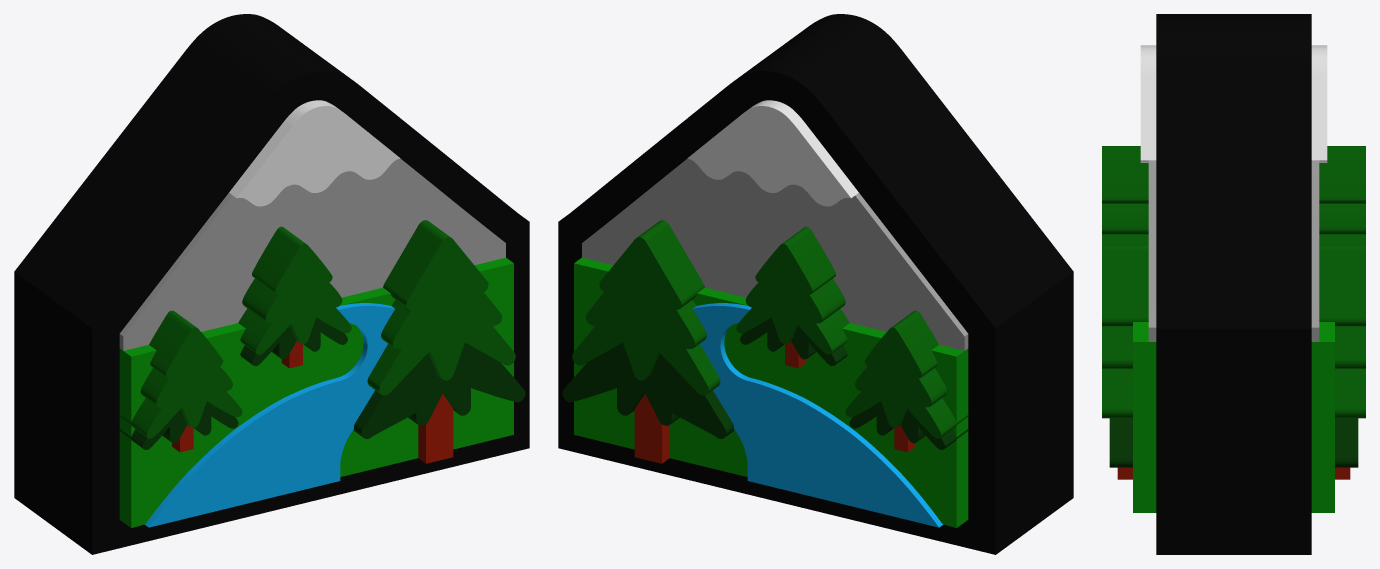
The picture shows the model from 3 angles, left to right: view 1: azimuth 30°, elevation 25°; view 2: azimuth 150°, elevation 25°; view 3: azimuth 270°, elevation 25°; orthographic projection.
Visible parts, largest first — view 1: U+1F3DE_layer00_obj00, U+1F3DE_layer07_obj00, U+1F3DE_layer01_obj00, U+1F3DE_layer03_obj00, U+1F3DE_layer04_obj00, U+1F3DE_layer06_obj00, U+1F3DE_layer02_obj00, U+1F3DE_layer05_obj00; view 2: U+1F3DE_layer00_obj00, U+1F3DE_layer07_obj00, U+1F3DE_layer01_obj00, U+1F3DE_layer03_obj00, U+1F3DE_layer04_obj00, U+1F3DE_layer06_obj00, U+1F3DE_layer02_obj00, U+1F3DE_layer05_obj00; view 3: U+1F3DE_layer00_obj00, U+1F3DE_layer07_obj00, U+1F3DE_layer03_obj00, U+1F3DE_layer02_obj00, U+1F3DE_layer01_obj00, U+1F3DE_layer06_obj00, U+1F3DE_layer05_obj00.
Part boxes in pixels (x1,y1,x2,y2): U+1F3DE_layer00_obj00: [14, 14, 529, 554]; U+1F3DE_layer07_obj00: [119, 220, 515, 438]; U+1F3DE_layer01_obj00: [119, 158, 505, 350]; U+1F3DE_layer03_obj00: [119, 257, 513, 527]; U+1F3DE_layer04_obj00: [144, 303, 394, 527]; U+1F3DE_layer06_obj00: [119, 317, 525, 449]; U+1F3DE_layer02_obj00: [229, 100, 400, 206]; U+1F3DE_layer05_obj00: [172, 341, 453, 463]; U+1F3DE_layer00_obj00: [558, 14, 1073, 554]; U+1F3DE_layer07_obj00: [572, 220, 968, 438]; U+1F3DE_layer01_obj00: [582, 158, 968, 350]; U+1F3DE_layer03_obj00: [574, 257, 968, 527]; U+1F3DE_layer04_obj00: [693, 303, 943, 527]; U+1F3DE_layer06_obj00: [562, 317, 968, 449]; U+1F3DE_layer02_obj00: [687, 100, 858, 206]; U+1F3DE_layer05_obj00: [634, 341, 915, 463]; U+1F3DE_layer00_obj00: [1156, 14, 1311, 554]; U+1F3DE_layer07_obj00: [1102, 146, 1365, 418]; U+1F3DE_layer03_obj00: [1133, 322, 1334, 512]; U+1F3DE_layer02_obj00: [1140, 45, 1327, 162]; U+1F3DE_layer01_obj00: [1148, 160, 1319, 341]; U+1F3DE_layer06_obj00: [1109, 418, 1358, 467]; U+1F3DE_layer05_obj00: [1117, 467, 1350, 479].
Size of the model in its own units: 0.6491 by 0.6084 by 0.34.
